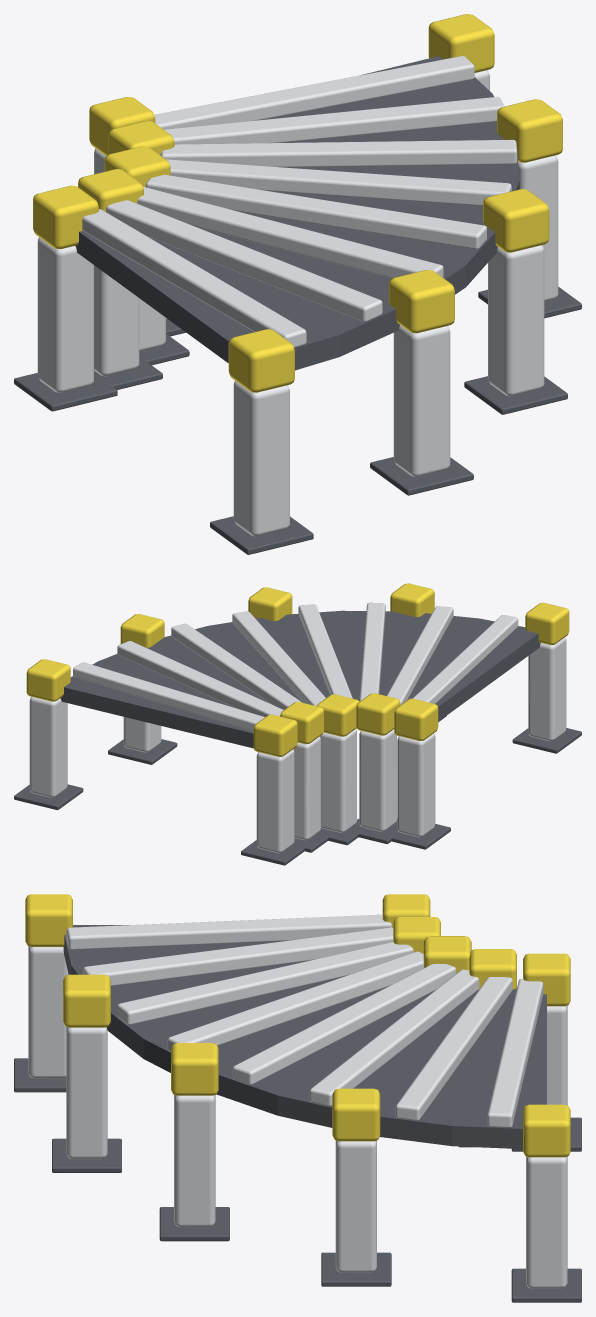
File: skid-conveyor-curve.glb
3 views of the same model, one above another, from view 1: azimuth 30°, elevation 25°; view 2: azimuth 150°, elevation 25°; view 3: azimuth 270°, elevation 25° (orthographic). The views are drawn at different scales.
Visible parts, largest first — view 1: skid-conveyor-curve; view 2: skid-conveyor-curve; view 3: skid-conveyor-curve.
Part boxes in pixels (bbox=[...]): skid-conveyor-curve: bbox=[14, 14, 581, 554]; skid-conveyor-curve: bbox=[14, 583, 581, 865]; skid-conveyor-curve: bbox=[14, 894, 581, 1302].
Bounding box in the file's own units: 1.78 × 0.61 × 1.78.
